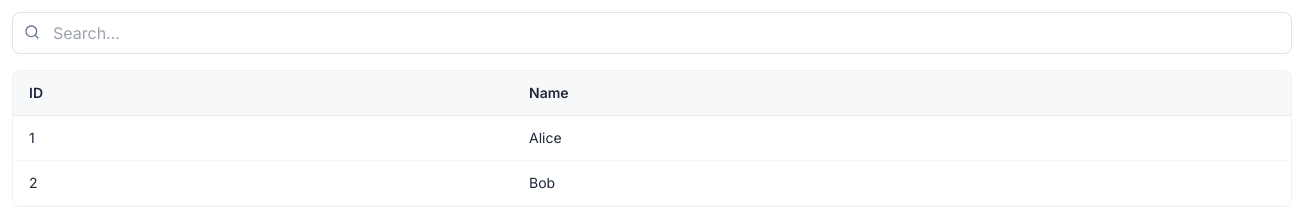
Test case: DataTable URL state synchronization › should update URL params when searching
// Type in search
Type "Bob" into the field with placeholder "Search...".
click(652, 33); type("Bob")  # box [12,12,1292,54]
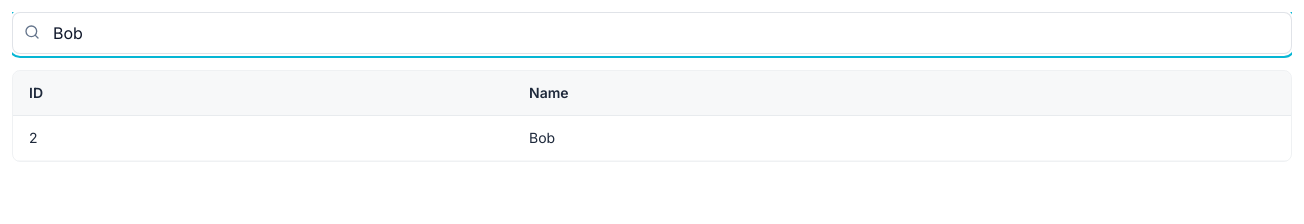
Expected: the text "Bob" is shown, [513,116,1291,160]
Result: the text "Alice" is gone
